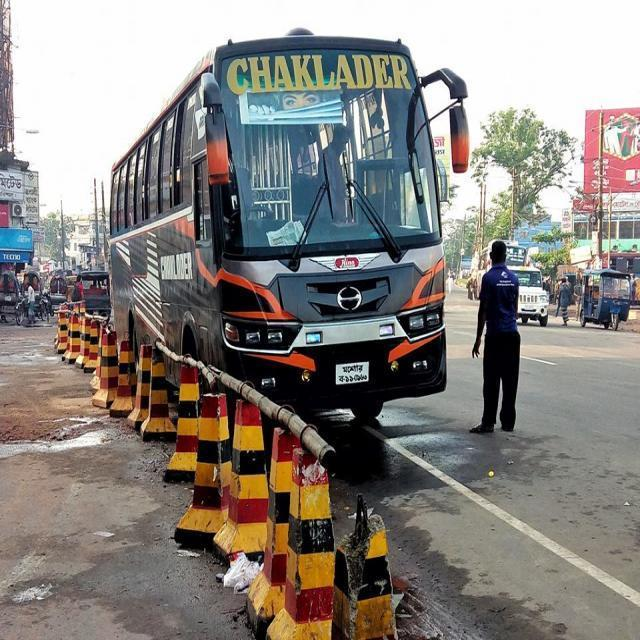bus: (90, 12, 482, 446)
